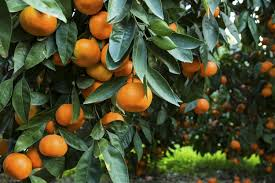orange: (16, 3, 57, 37), (115, 81, 153, 113), (100, 41, 132, 72), (69, 36, 100, 67), (2, 151, 36, 179), (85, 10, 116, 39), (55, 100, 84, 127), (39, 133, 70, 157), (191, 98, 210, 117)
